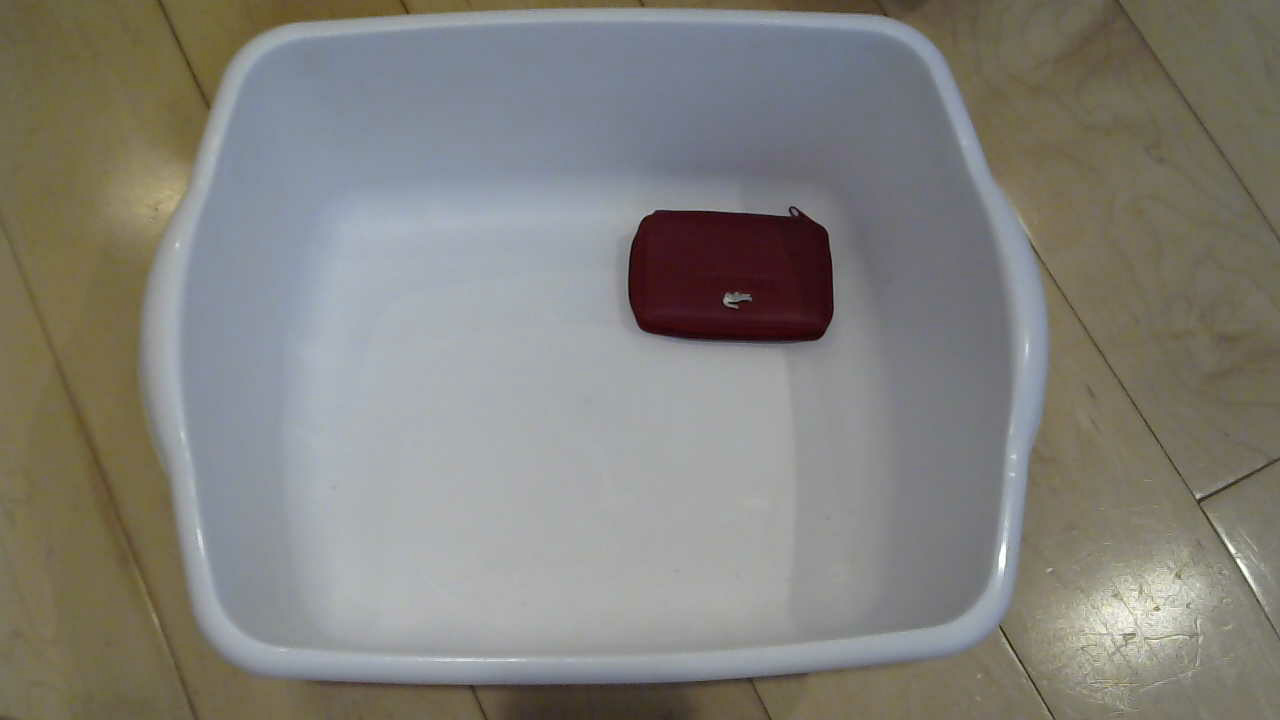wallet: (602, 188, 859, 380)
